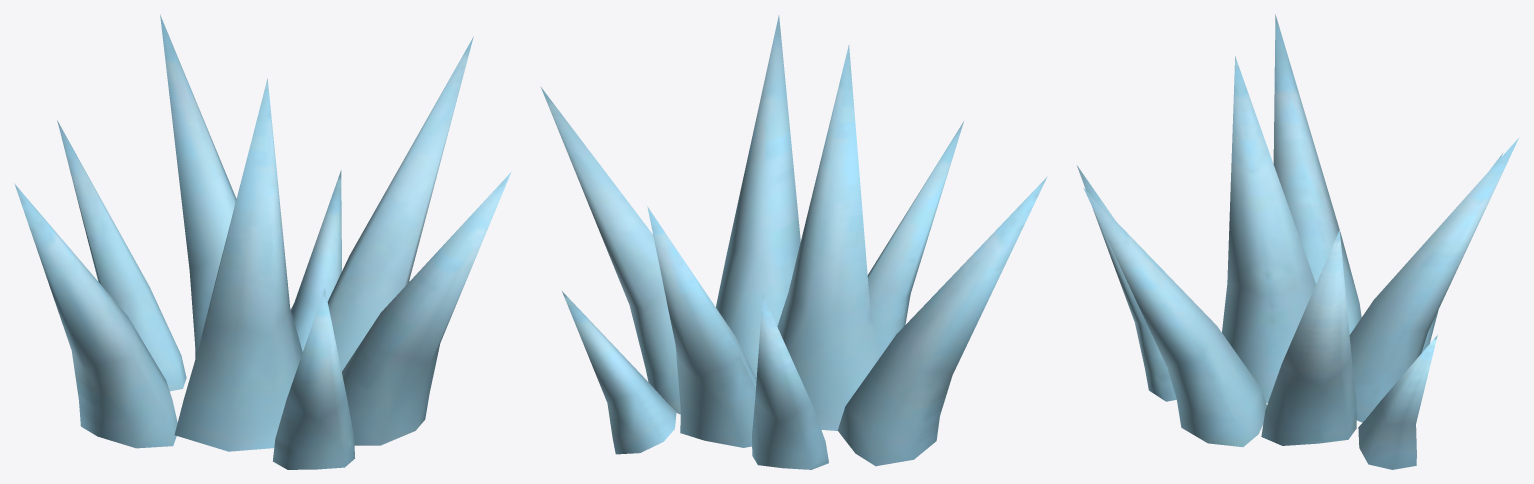
File: isTappar.fbx
The picture shows the model from 3 angles, left to right: view 1: azimuth 30°, elevation 25°; view 2: azimuth 150°, elevation 25°; view 3: azimuth 270°, elevation 25°; orthographic projection. The views are drawn at different scales.
Parts seen in each view (by area): view 1: isTappar; view 2: isTappar; view 3: isTappar.
Part boxes in pixels (x1,y1,x2,y2): isTappar: [14, 14, 511, 469]; isTappar: [540, 15, 1047, 469]; isTappar: [1077, 14, 1518, 469].
Size of the model in its own units: 1.45 by 1.1 by 1.26.
